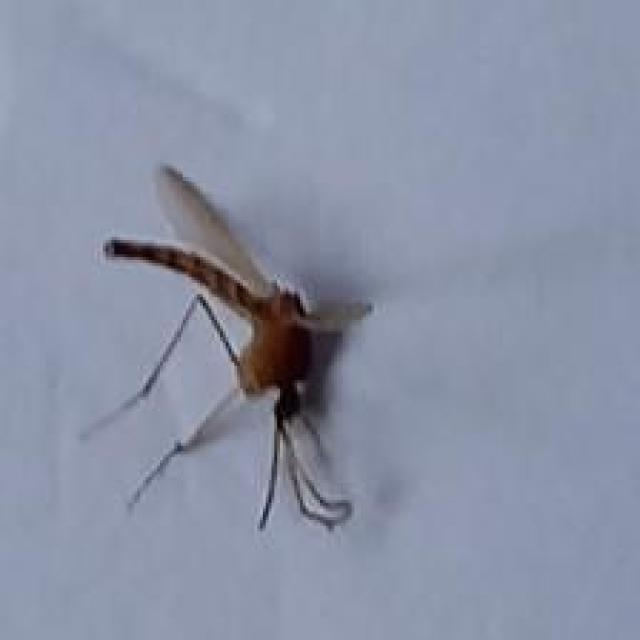Culex: (78, 161, 376, 533)
